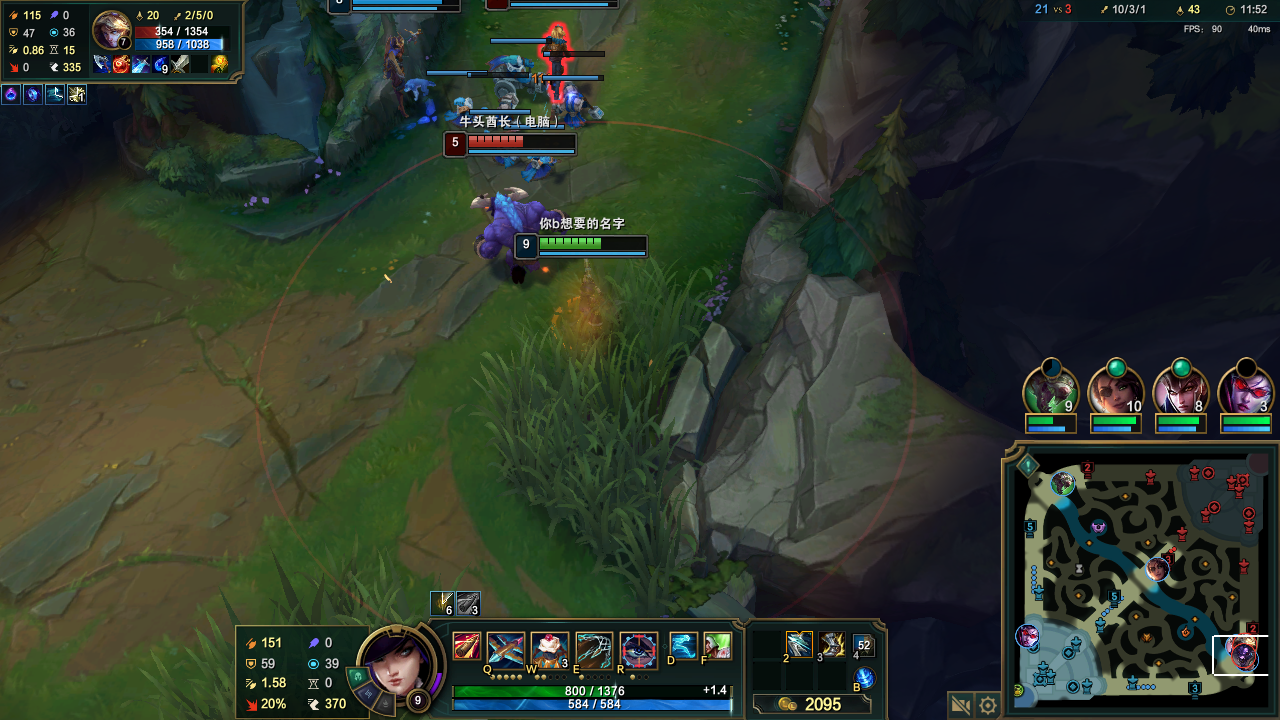DFYX: (468, 133, 567, 148)
KF: (787, 635, 809, 650)
WFXB: (498, 55, 540, 88), (445, 98, 485, 128), (561, 90, 589, 123), (524, 156, 546, 174), (496, 158, 519, 166)
